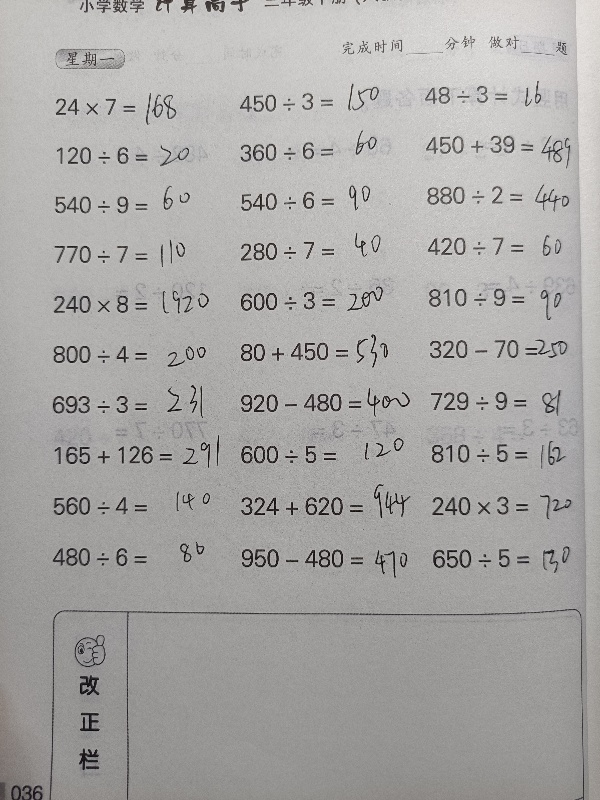equation: (232, 327, 412, 376), (47, 87, 227, 135), (417, 127, 597, 173), (231, 378, 411, 422), (233, 538, 413, 580), (47, 234, 227, 276), (47, 380, 224, 422), (418, 176, 598, 216), (422, 434, 590, 476), (423, 384, 599, 423), (423, 543, 594, 581), (44, 540, 224, 574), (233, 489, 413, 523), (45, 489, 225, 523), (232, 438, 412, 472), (46, 438, 226, 472), (231, 284, 411, 318), (231, 234, 411, 268), (232, 183, 412, 217), (231, 134, 411, 168), (231, 85, 411, 119), (421, 332, 600, 366), (45, 338, 225, 371), (45, 288, 225, 321), (419, 230, 599, 263), (47, 189, 227, 222), (48, 139, 228, 172), (416, 78, 596, 111), (420, 281, 594, 312), (424, 489, 589, 520)
